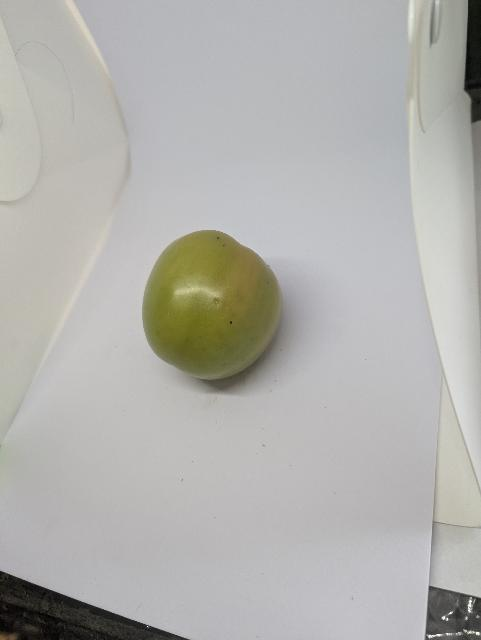green: (126, 224, 295, 390)
